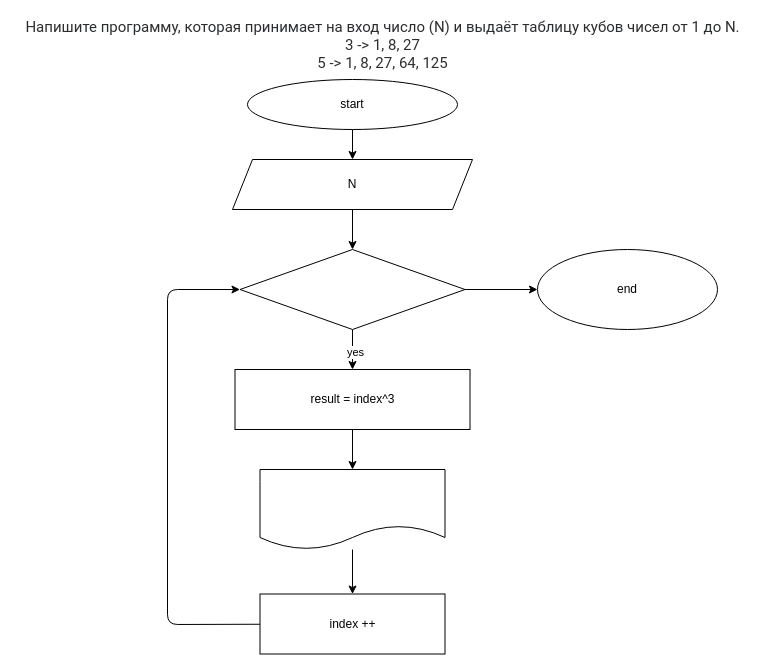
Image size: 764x671. Some labels were removed from this diagram. The shapes that lost their labels are listed below. From the top down, each one's box as (x1, y1, x2, y2) in pixels, then its label:
(239, 248, 465, 330): index <= N
(259, 468, 445, 550): result
